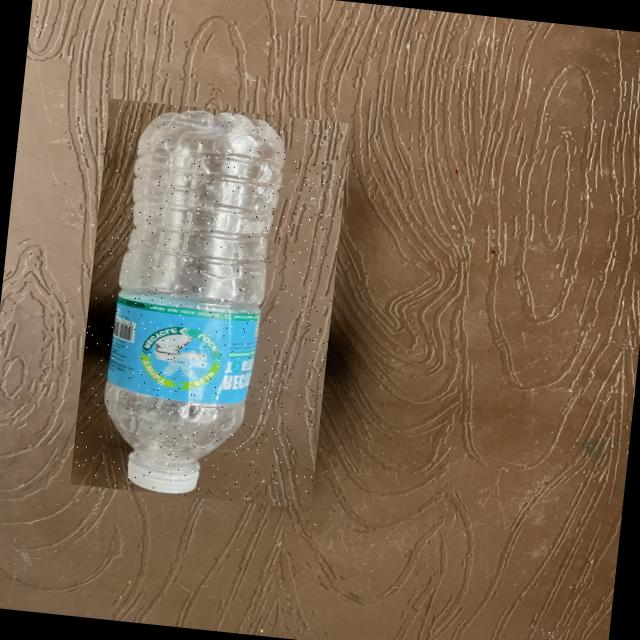REJECT: (69, 98, 350, 509)
